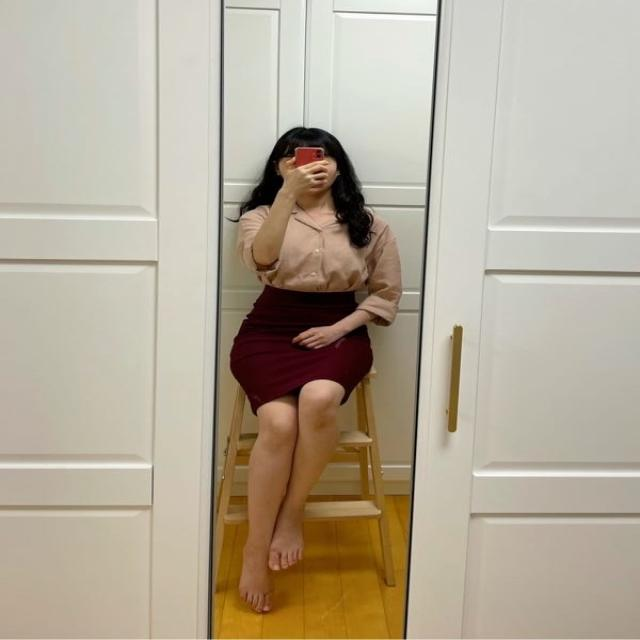shirt: (242, 202, 409, 329)
skirt: (228, 286, 374, 407)
